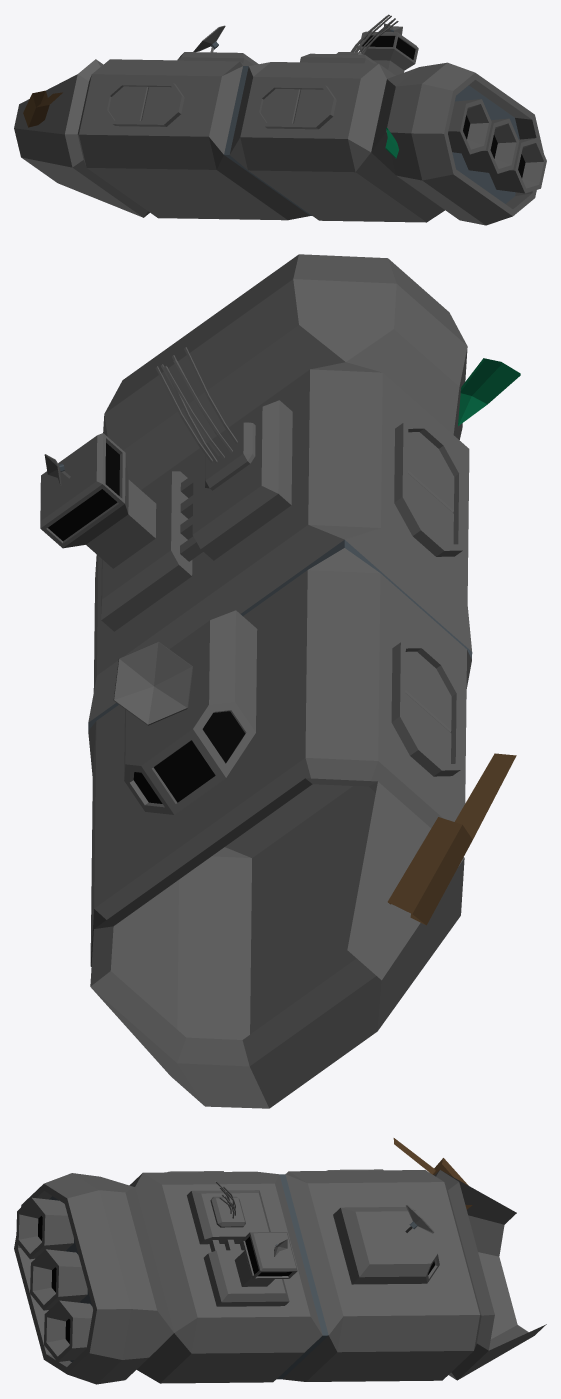
File: spaceShipWrecked.fbx
The picture shows the model from 3 angles, top to bottom: view 1: azimuth 30°, elevation 25°; view 2: azimuth 150°, elevation 25°; view 3: azimuth 270°, elevation 25°; orthographic projection. The views are drawn at different scales.
Parts seen in each view (by area): view 1: Crash_Site; view 2: Crash_Site; view 3: Crash_Site.
Boxes of the visible parts, bbox=[...] form: Crash_Site: bbox=[14, 14, 546, 225]; Crash_Site: bbox=[40, 254, 520, 1108]; Crash_Site: bbox=[14, 1138, 546, 1384].
Size of the model in its own units: 2237 by 1533 by 2872.
